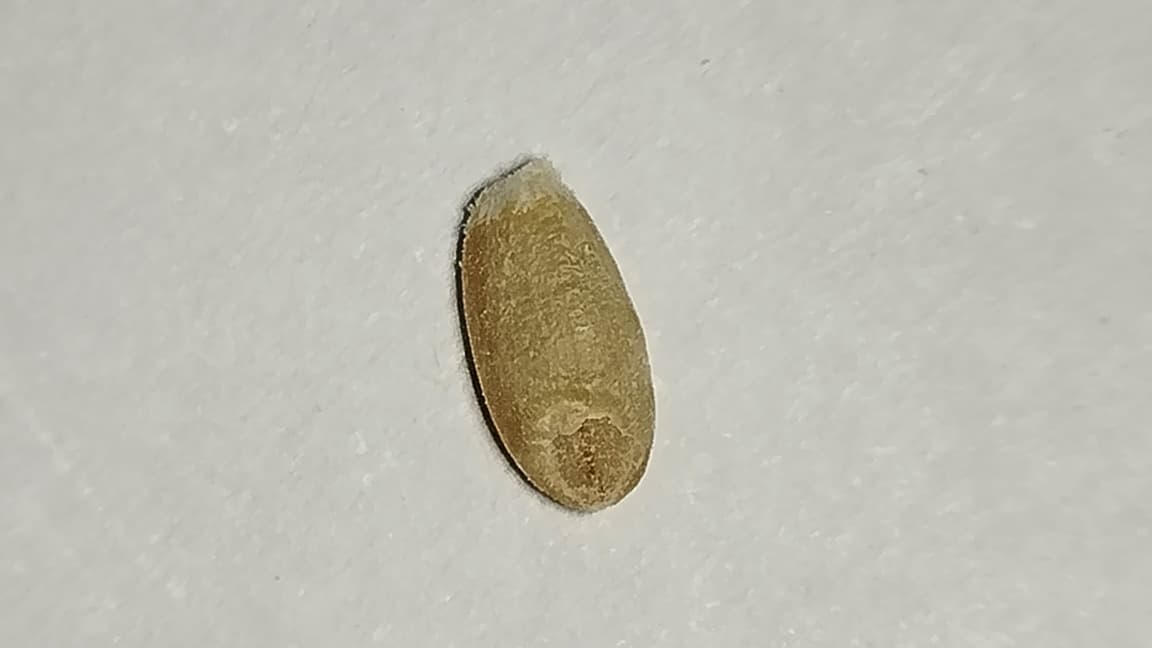damage: (464, 161, 653, 508)
insectdamage: (540, 393, 644, 515)
